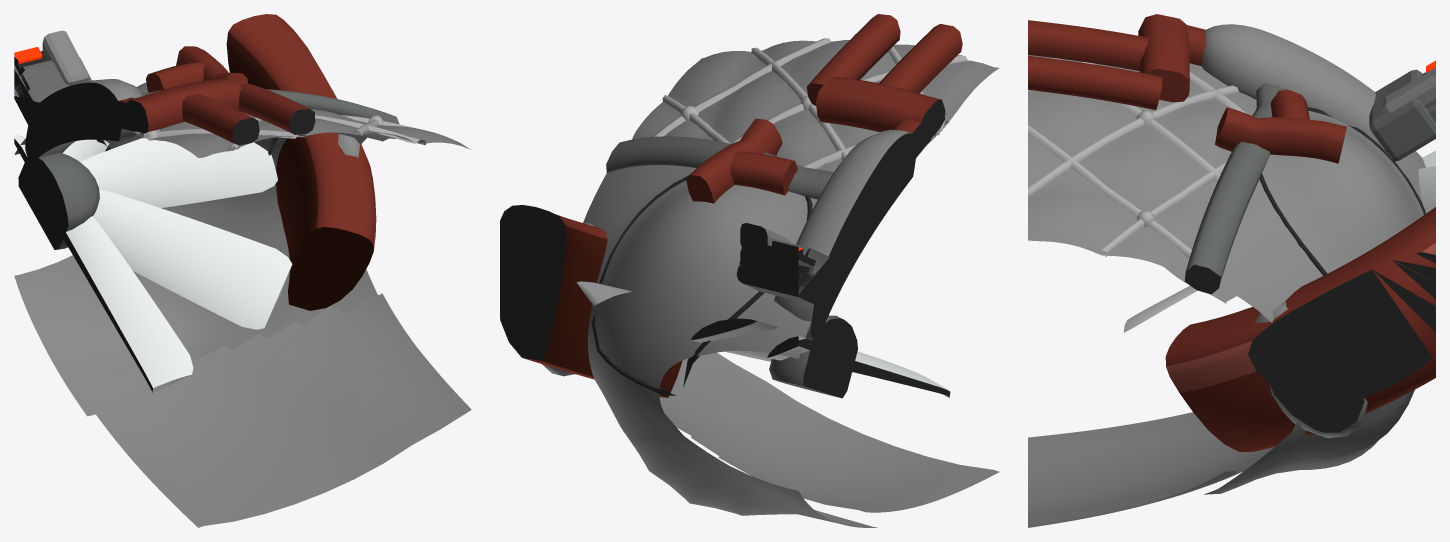
Rendered from zeppelin_43.glb.
3 renders of one model, left to right at view 1: azimuth 30°, elevation 25°; view 2: azimuth 150°, elevation 25°; view 3: azimuth 270°, elevation 25°, orthographic. The views are drawn at different scales.
Visible parts, largest first — view 1: envelope.001, duct.001, cowl.001, blade_7.001, blade_0.001, blade_6.001, hub_fairing.001, fan_hub.001, gate_bar.001, gate_leg_in_r.001, gate_leg_out_r.001, cowl_rim.001 (+7 smaller); view 2: cowl.001, envelope.001, duct.001, hub_fairing.001, gate_bar.001, cowl_rim.001, fan_hub.001, net_ropes.001, gate_leg_out_r.001, bracket_r.001, gate_leg_in_r.001, bridge_foot.001 (+9 smaller); view 3: envelope.001, duct.001, cowl.001, hub_fairing.001, cowl_rim.001, net_ropes.001, duct_boot_r.001, gate_leg_out_r.001, bracket_r.001, gate_leg_in_r.001, gate_bar.001, bridge_foot.001 (+6 smaller).
Boxes of the visible parts, x1,y1,x2,y2 form: envelope.001: (75,108,471,527); duct.001: (226,14,376,310); cowl.001: (14,82,377,416); blade_7.001: (93,189,292,329); blade_0.001: (80,138,277,207); blade_6.001: (60,216,193,392); hub_fairing.001: (25,79,142,159); fan_hub.001: (18,152,99,249); gate_bar.001: (126,78,241,133); gate_leg_in_r.001: (182,94,259,145); gate_leg_out_r.001: (239,83,315,134); cowl_rim.001: (79,89,399,138); cowl.001: (583,165,877,527); envelope.001: (632,40,999,512); duct.001: (500,205,682,397); hub_fairing.001: (774,129,916,344); gate_bar.001: (815,76,945,143); cowl_rim.001: (606,136,887,214); fan_hub.001: (769,315,857,398); net_ropes.001: (652,38,967,168); gate_leg_out_r.001: (807,14,900,105); bracket_r.001: (686,118,782,203); gate_leg_in_r.001: (879,24,962,93); bridge_foot.001: (736,240,831,304); envelope.001: (1028,55,1274,527); duct.001: (1165,207,1435,451); cowl.001: (1204,111,1425,494); hub_fairing.001: (1201,24,1381,146); cowl_rim.001: (1184,83,1284,294); net_ropes.001: (1028,56,1248,258); duct_boot_r.001: (1254,302,1367,438); gate_leg_out_r.001: (1028,55,1162,110); bracket_r.001: (1215,107,1346,163); gate_leg_in_r.001: (1028,20,1148,70); gate_bar.001: (1138,14,1189,102); bridge_foot.001: (1369,69,1435,161).
Bounding box in the file's own units: 24 × 33.56 × 28.
